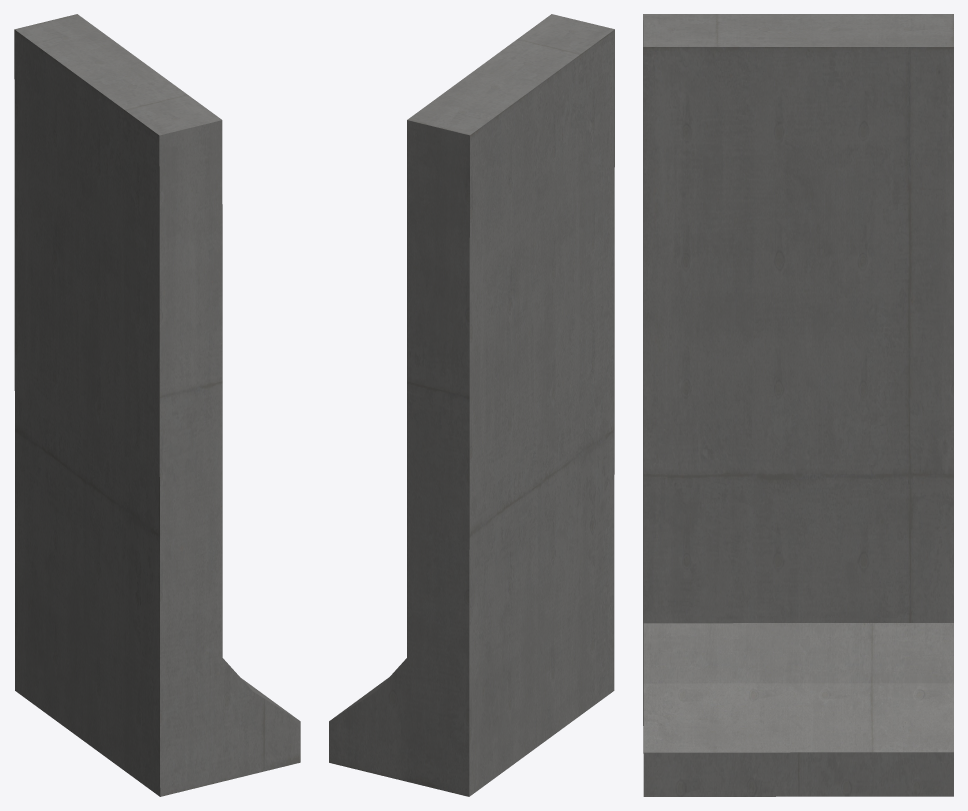
The model's file is wall.fbx.
3 renders of one model, left to right at view 1: azimuth 30°, elevation 25°; view 2: azimuth 150°, elevation 25°; view 3: azimuth 270°, elevation 25°, orthographic. The views are drawn at different scales.
Parts seen in each view (by area): view 1: Cube; view 2: Cube; view 3: Cube.
Boxes of the visible parts, <box> form: Cube: <box>14,14,300,796</box>; Cube: <box>329,14,614,796</box>; Cube: <box>643,14,953,796</box>.
Size of the model in its own units: 449 by 2010 by 798.
